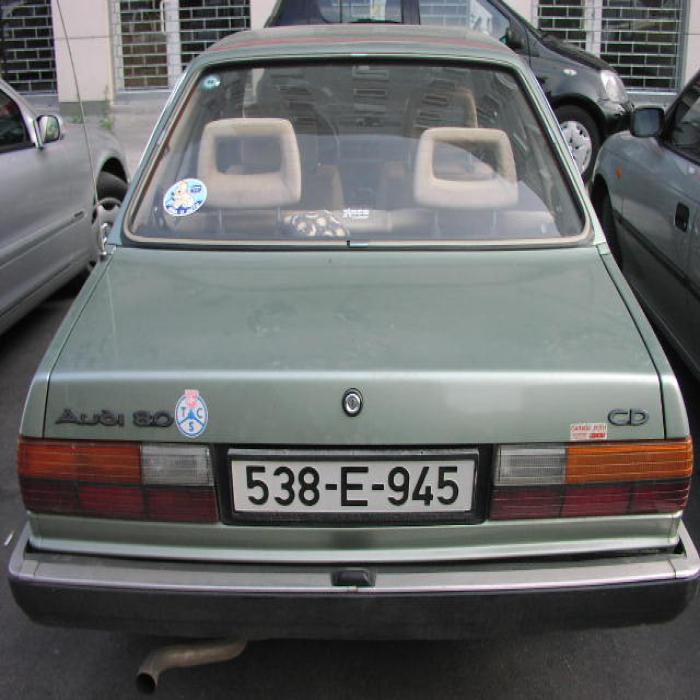number_plate: (230, 455, 470, 510)
